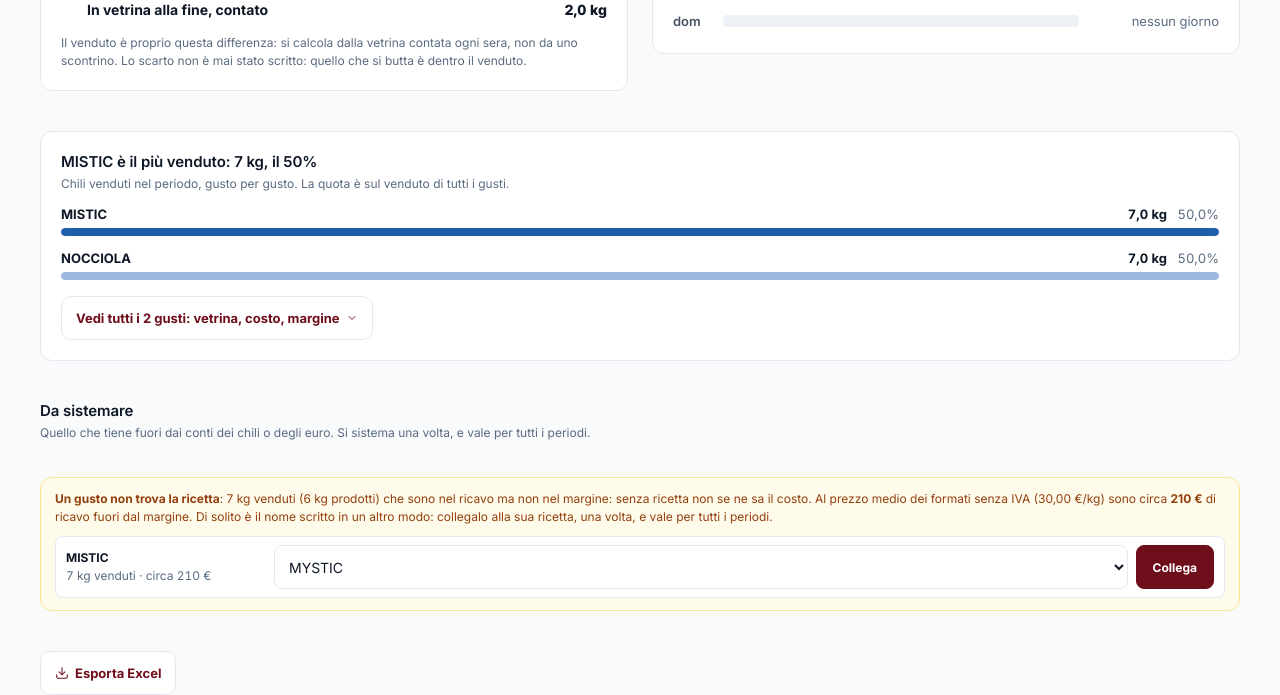
Test: Lo Storico dice quanto vale il gusto senza ricetta e lo fa collegare › propone la ricetta simile e la collega col pulsante, salvando prima
(page scrolled)
Expected: the dropdown named "Ricetta di MISTIC" shows "MYSTIC", [274,545,1128,589]
Click the button "Collega": click(1175, 567) [1136,545,1214,589]
(page scrolled)
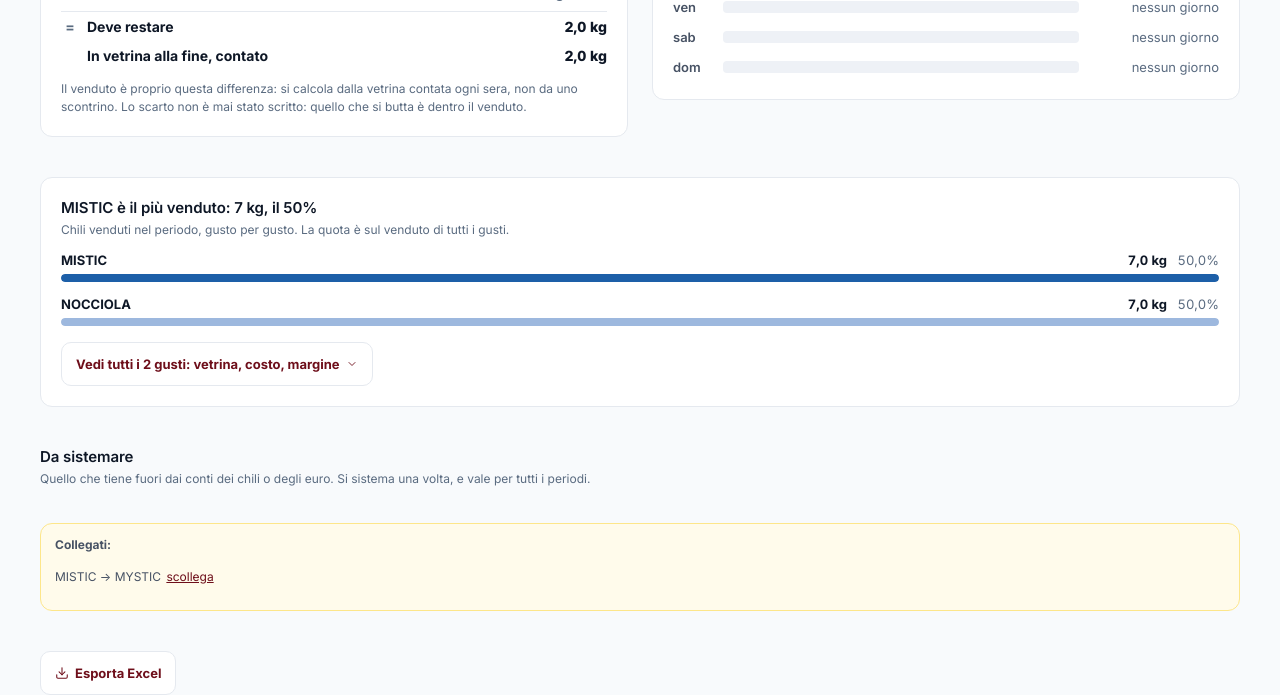
Now the text "Collegati: MISTIC → MYSTIC" is shown, box [55,537,216,598]
Now the text "non trova la ricetta" is gone
